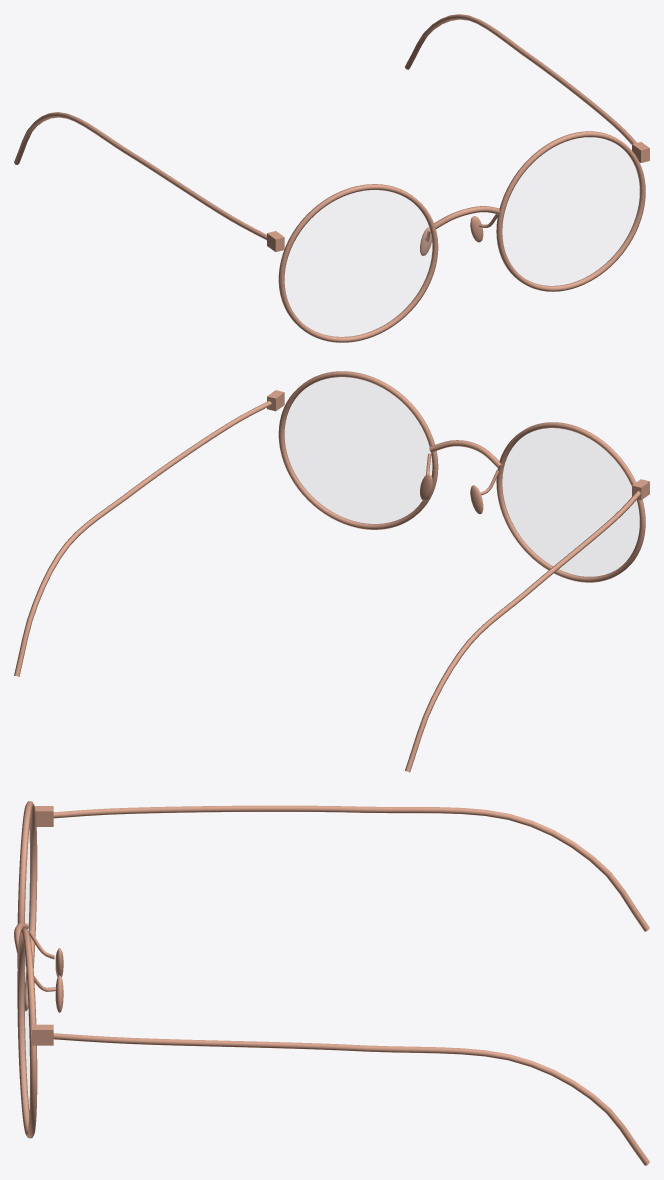
The model's file is BM-W08_Tara_Rose_gold.glb.
3 renders of one model, top to bottom at view 1: azimuth 30°, elevation 25°; view 2: azimuth 150°, elevation 25°; view 3: azimuth 270°, elevation 25°, orthographic. The views are drawn at different scales.
Visible parts, largest first — view 1: Tara_Rose_gold_Lenses, Tara_Rose_gold_Metal; view 2: Tara_Rose_gold_Lenses, Tara_Rose_gold_Metal; view 3: Tara_Rose_gold_Metal, Tara_Rose_gold_Lenses.
Boxes of the visible parts, box(x1,y1,x2,y2) form: Tara_Rose_gold_Lenses: box(285, 138, 639, 336); Tara_Rose_gold_Metal: box(14, 14, 649, 342); Tara_Rose_gold_Lenses: box(284, 377, 638, 576); Tara_Rose_gold_Metal: box(14, 371, 649, 772); Tara_Rose_gold_Metal: box(14, 801, 649, 1165); Tara_Rose_gold_Lenses: box(22, 815, 32, 1121).
Bounding box in the file's own units: 0.131 × 0.0475 × 0.1448.
